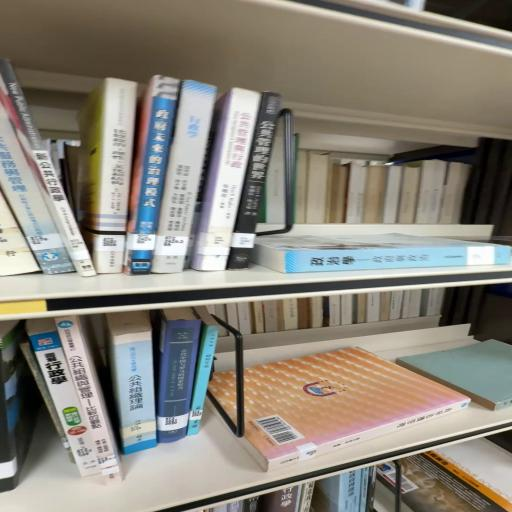flat: (241, 348, 471, 472), (254, 234, 512, 274), (210, 372, 242, 420)
